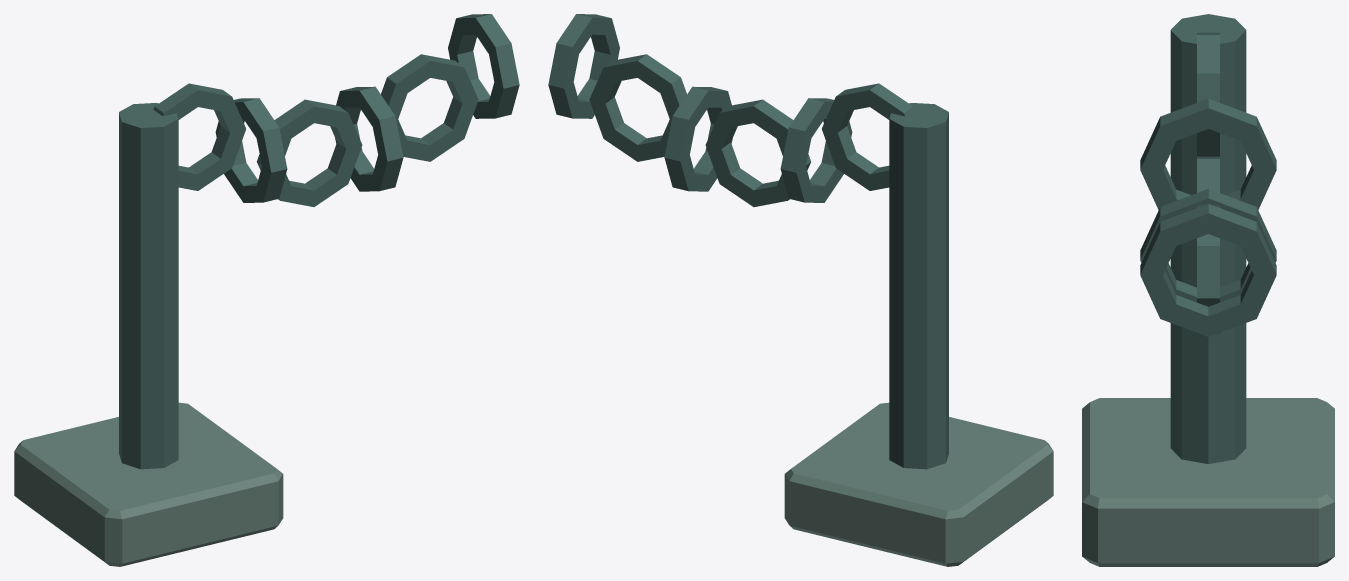
File: chain-post.glb
3 renders of one model, left to right at view 1: azimuth 30°, elevation 25°; view 2: azimuth 150°, elevation 25°; view 3: azimuth 270°, elevation 25°, orthographic. The views are drawn at different scales.
Visible parts, largest first — view 1: chain-post__body; view 2: chain-post__body; view 3: chain-post__body.
Boxes of the visible parts, x1,y1,x2,y2 form: chain-post__body: [14, 14, 519, 566]; chain-post__body: [548, 14, 1053, 566]; chain-post__body: [1082, 14, 1334, 566].
Size of the model in its own units: 0.968 by 0.888 by 0.4.
